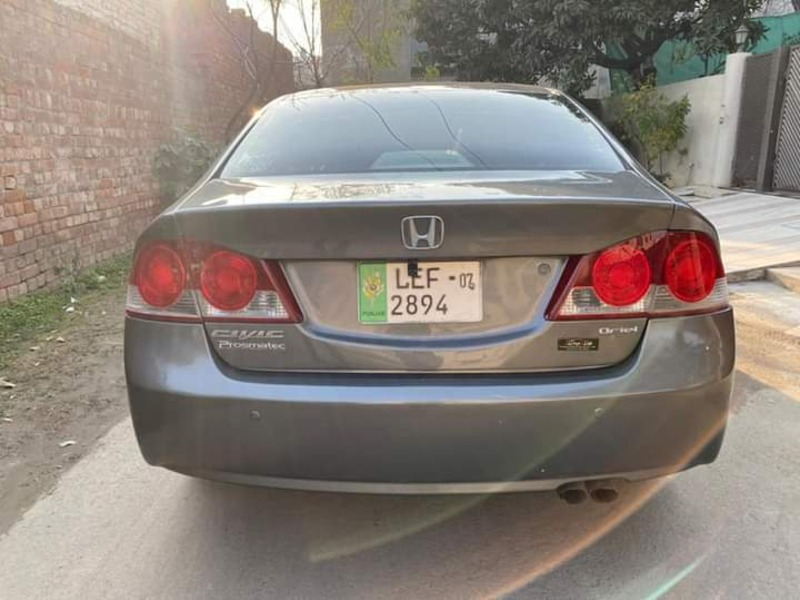License Plate: (355, 259, 489, 331)
